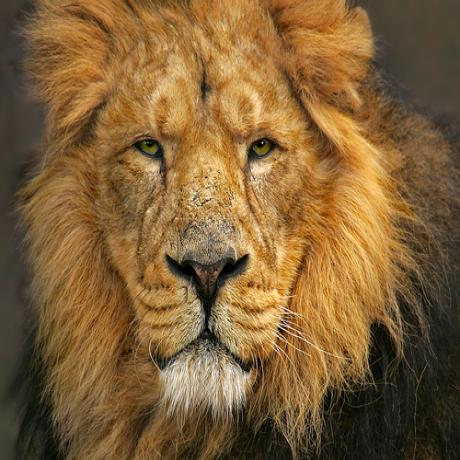Lion: (19, 0, 428, 460)
